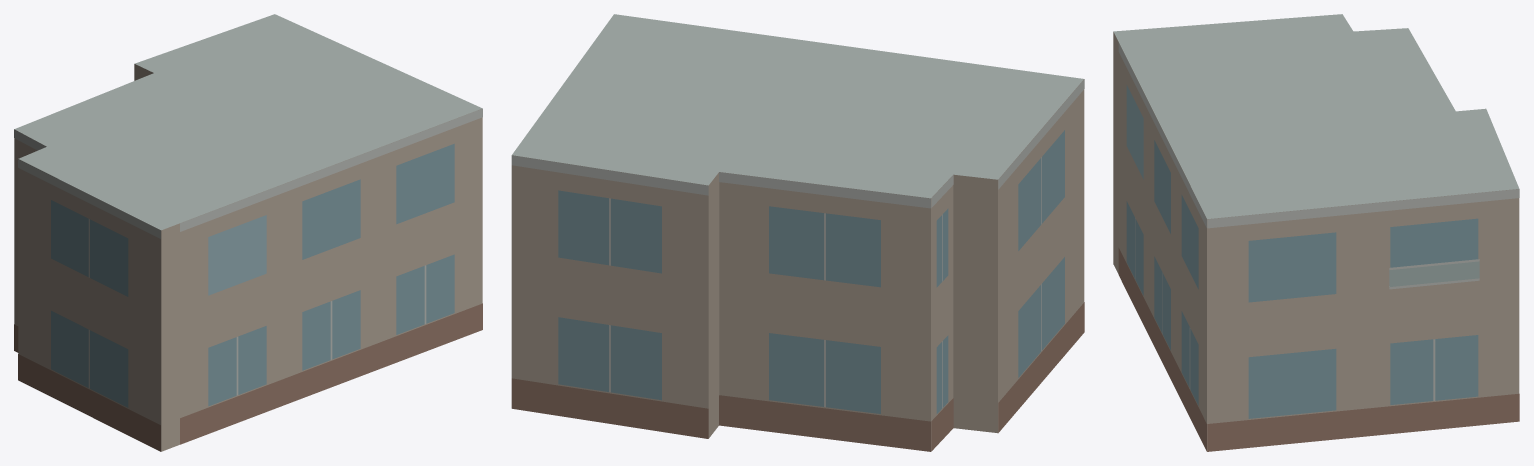
File: survey-upis-32723727.glb
3 renders of one model, left to right at view 1: azimuth 30°, elevation 25°; view 2: azimuth 150°, elevation 25°; view 3: azimuth 270°, elevation 25°, orthographic. The views are drawn at different scales.
Visible parts, largest first — view 1: survey-upis-32723727.tmp; view 2: survey-upis-32723727.tmp; view 3: survey-upis-32723727.tmp.
Part boxes in pixels (x1,y1,x2,y2): survey-upis-32723727.tmp: (14,14,482,451); survey-upis-32723727.tmp: (511,14,1084,451); survey-upis-32723727.tmp: (1113,14,1519,451).
Size of the model in its own units: 11.54 by 6.1 by 9.66.
